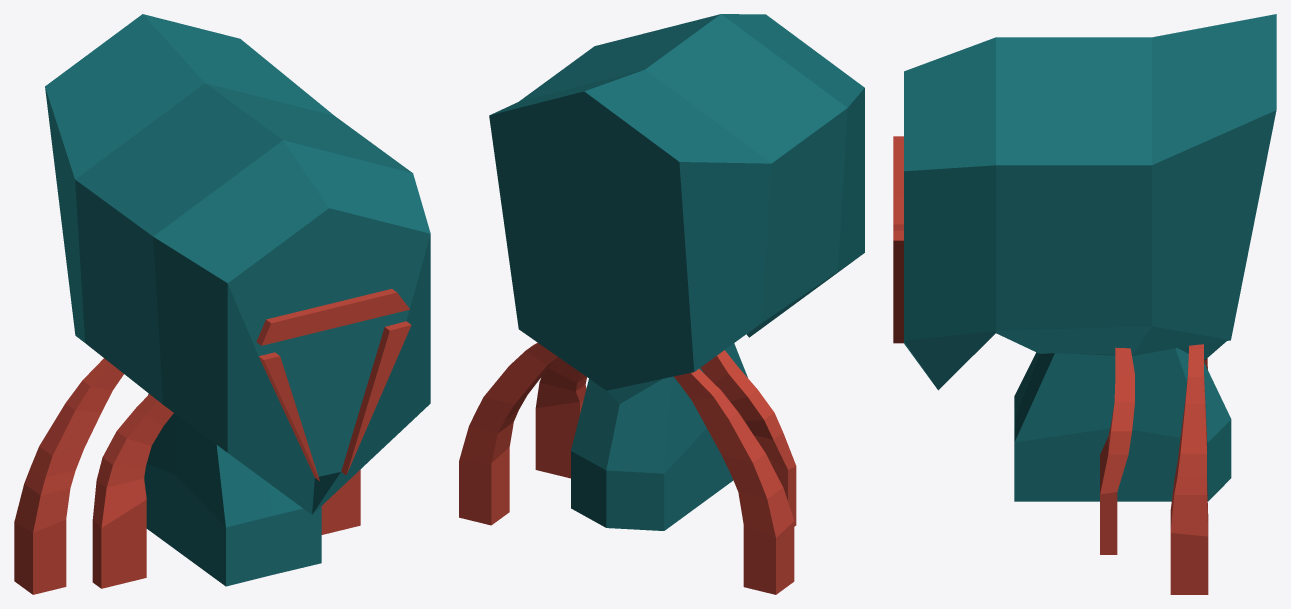
File: head2.fbx
The picture shows the model from 3 angles, left to right: view 1: azimuth 30°, elevation 25°; view 2: azimuth 150°, elevation 25°; view 3: azimuth 270°, elevation 25°; orthographic projection. The views are drawn at different scales.
Parts seen in each view (by area): view 1: head1.001; view 2: head1.001; view 3: head1.001.
Part boxes in pixels (left/top/right/bottom): head1.001: left=14, top=14, right=430, bottom=594; head1.001: left=459, top=14, right=864, bottom=594; head1.001: left=893, top=14, right=1276, bottom=594.
Size of the model in its own units: 0.0872 by 0.1286 by 0.089.
